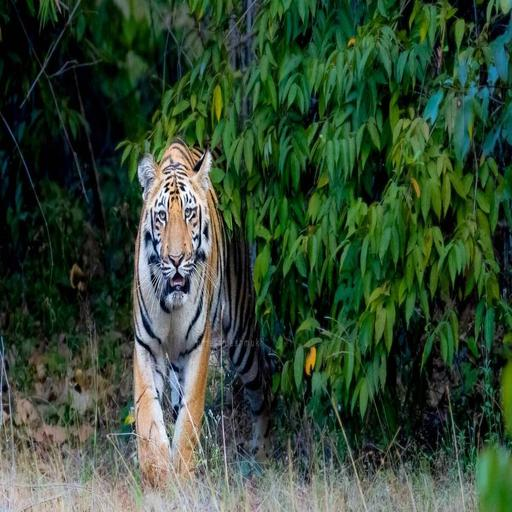Tiger: (108, 127, 289, 512)
